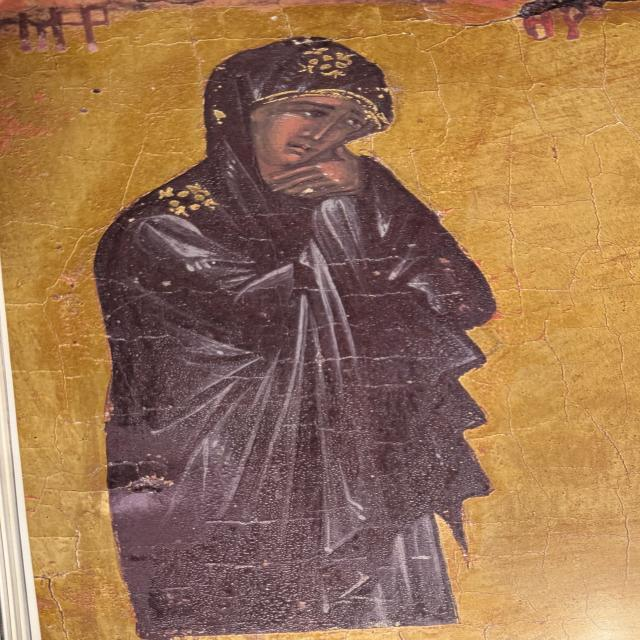mary: (82, 11, 536, 639)
